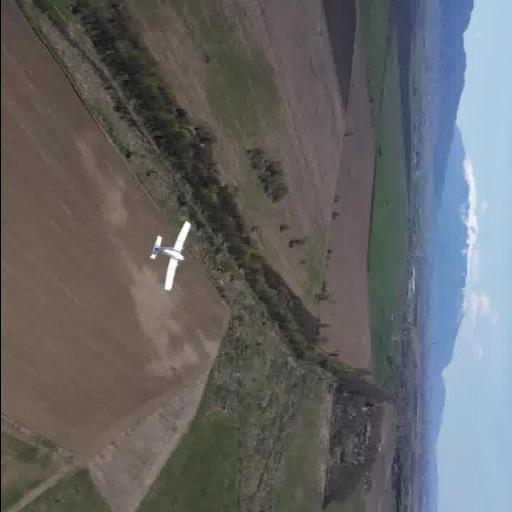uav: (142, 217, 198, 296)
